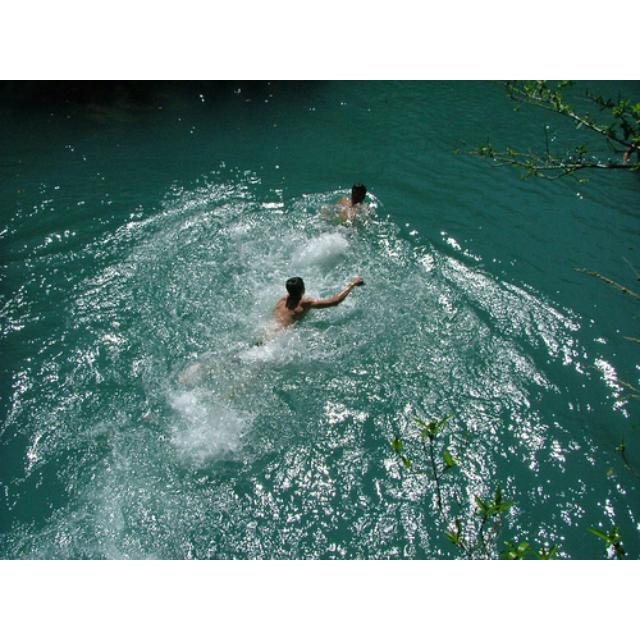human: (264, 270, 366, 336), (335, 181, 373, 220)
